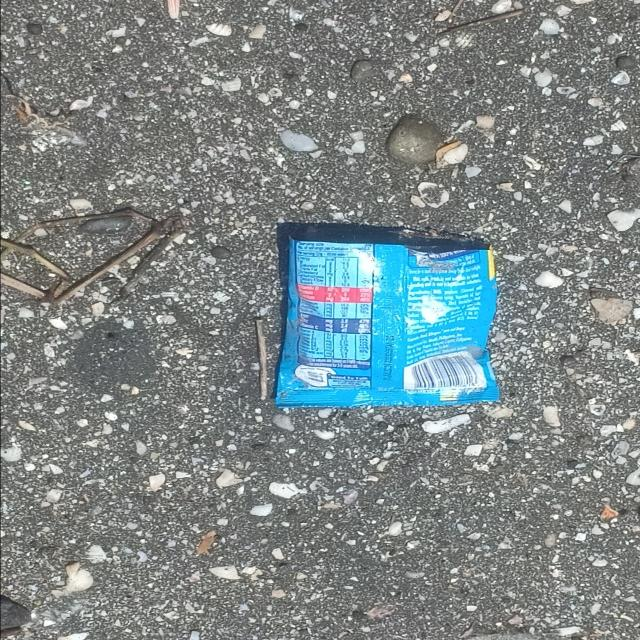plastic_waste: (273, 233, 501, 409)
